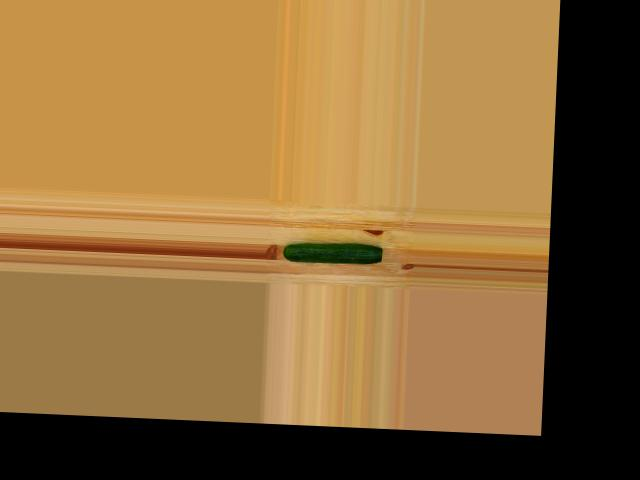cucumber: (282, 241, 381, 265)
